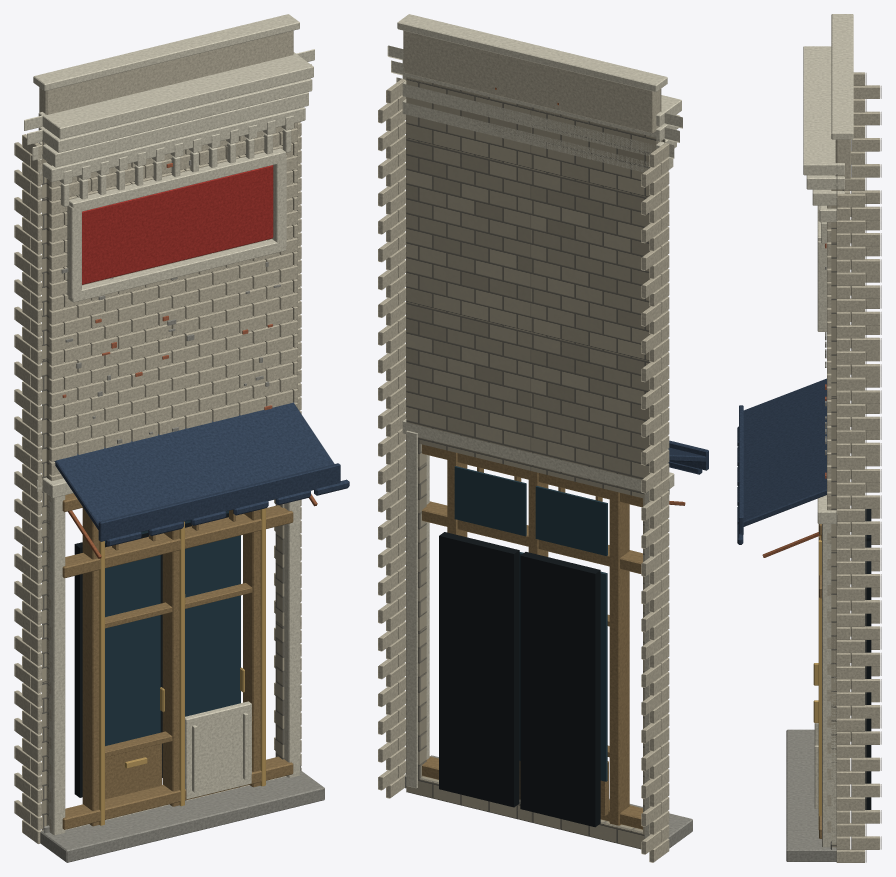
File: BUSS2_lod0.glb
3 renders of one model, left to right at view 1: azimuth 30°, elevation 25°; view 2: azimuth 150°, elevation 25°; view 3: azimuth 270°, elevation 25°, orthographic. The views are drawn at different scales.
Visible parts, largest first — view 1: BUSS2_FRONT_LOD0; view 2: BUSS2_FRONT_LOD0; view 3: BUSS2_FRONT_LOD0.
Part boxes in pixels (x1,y1,x2,y2): BUSS2_FRONT_LOD0: [14, 14, 349, 862]; BUSS2_FRONT_LOD0: [378, 14, 708, 862]; BUSS2_FRONT_LOD0: [737, 14, 881, 862].
Size of the model in its own units: 3.78 by 9.44 by 1.7.
15 materials, 12 textured.
